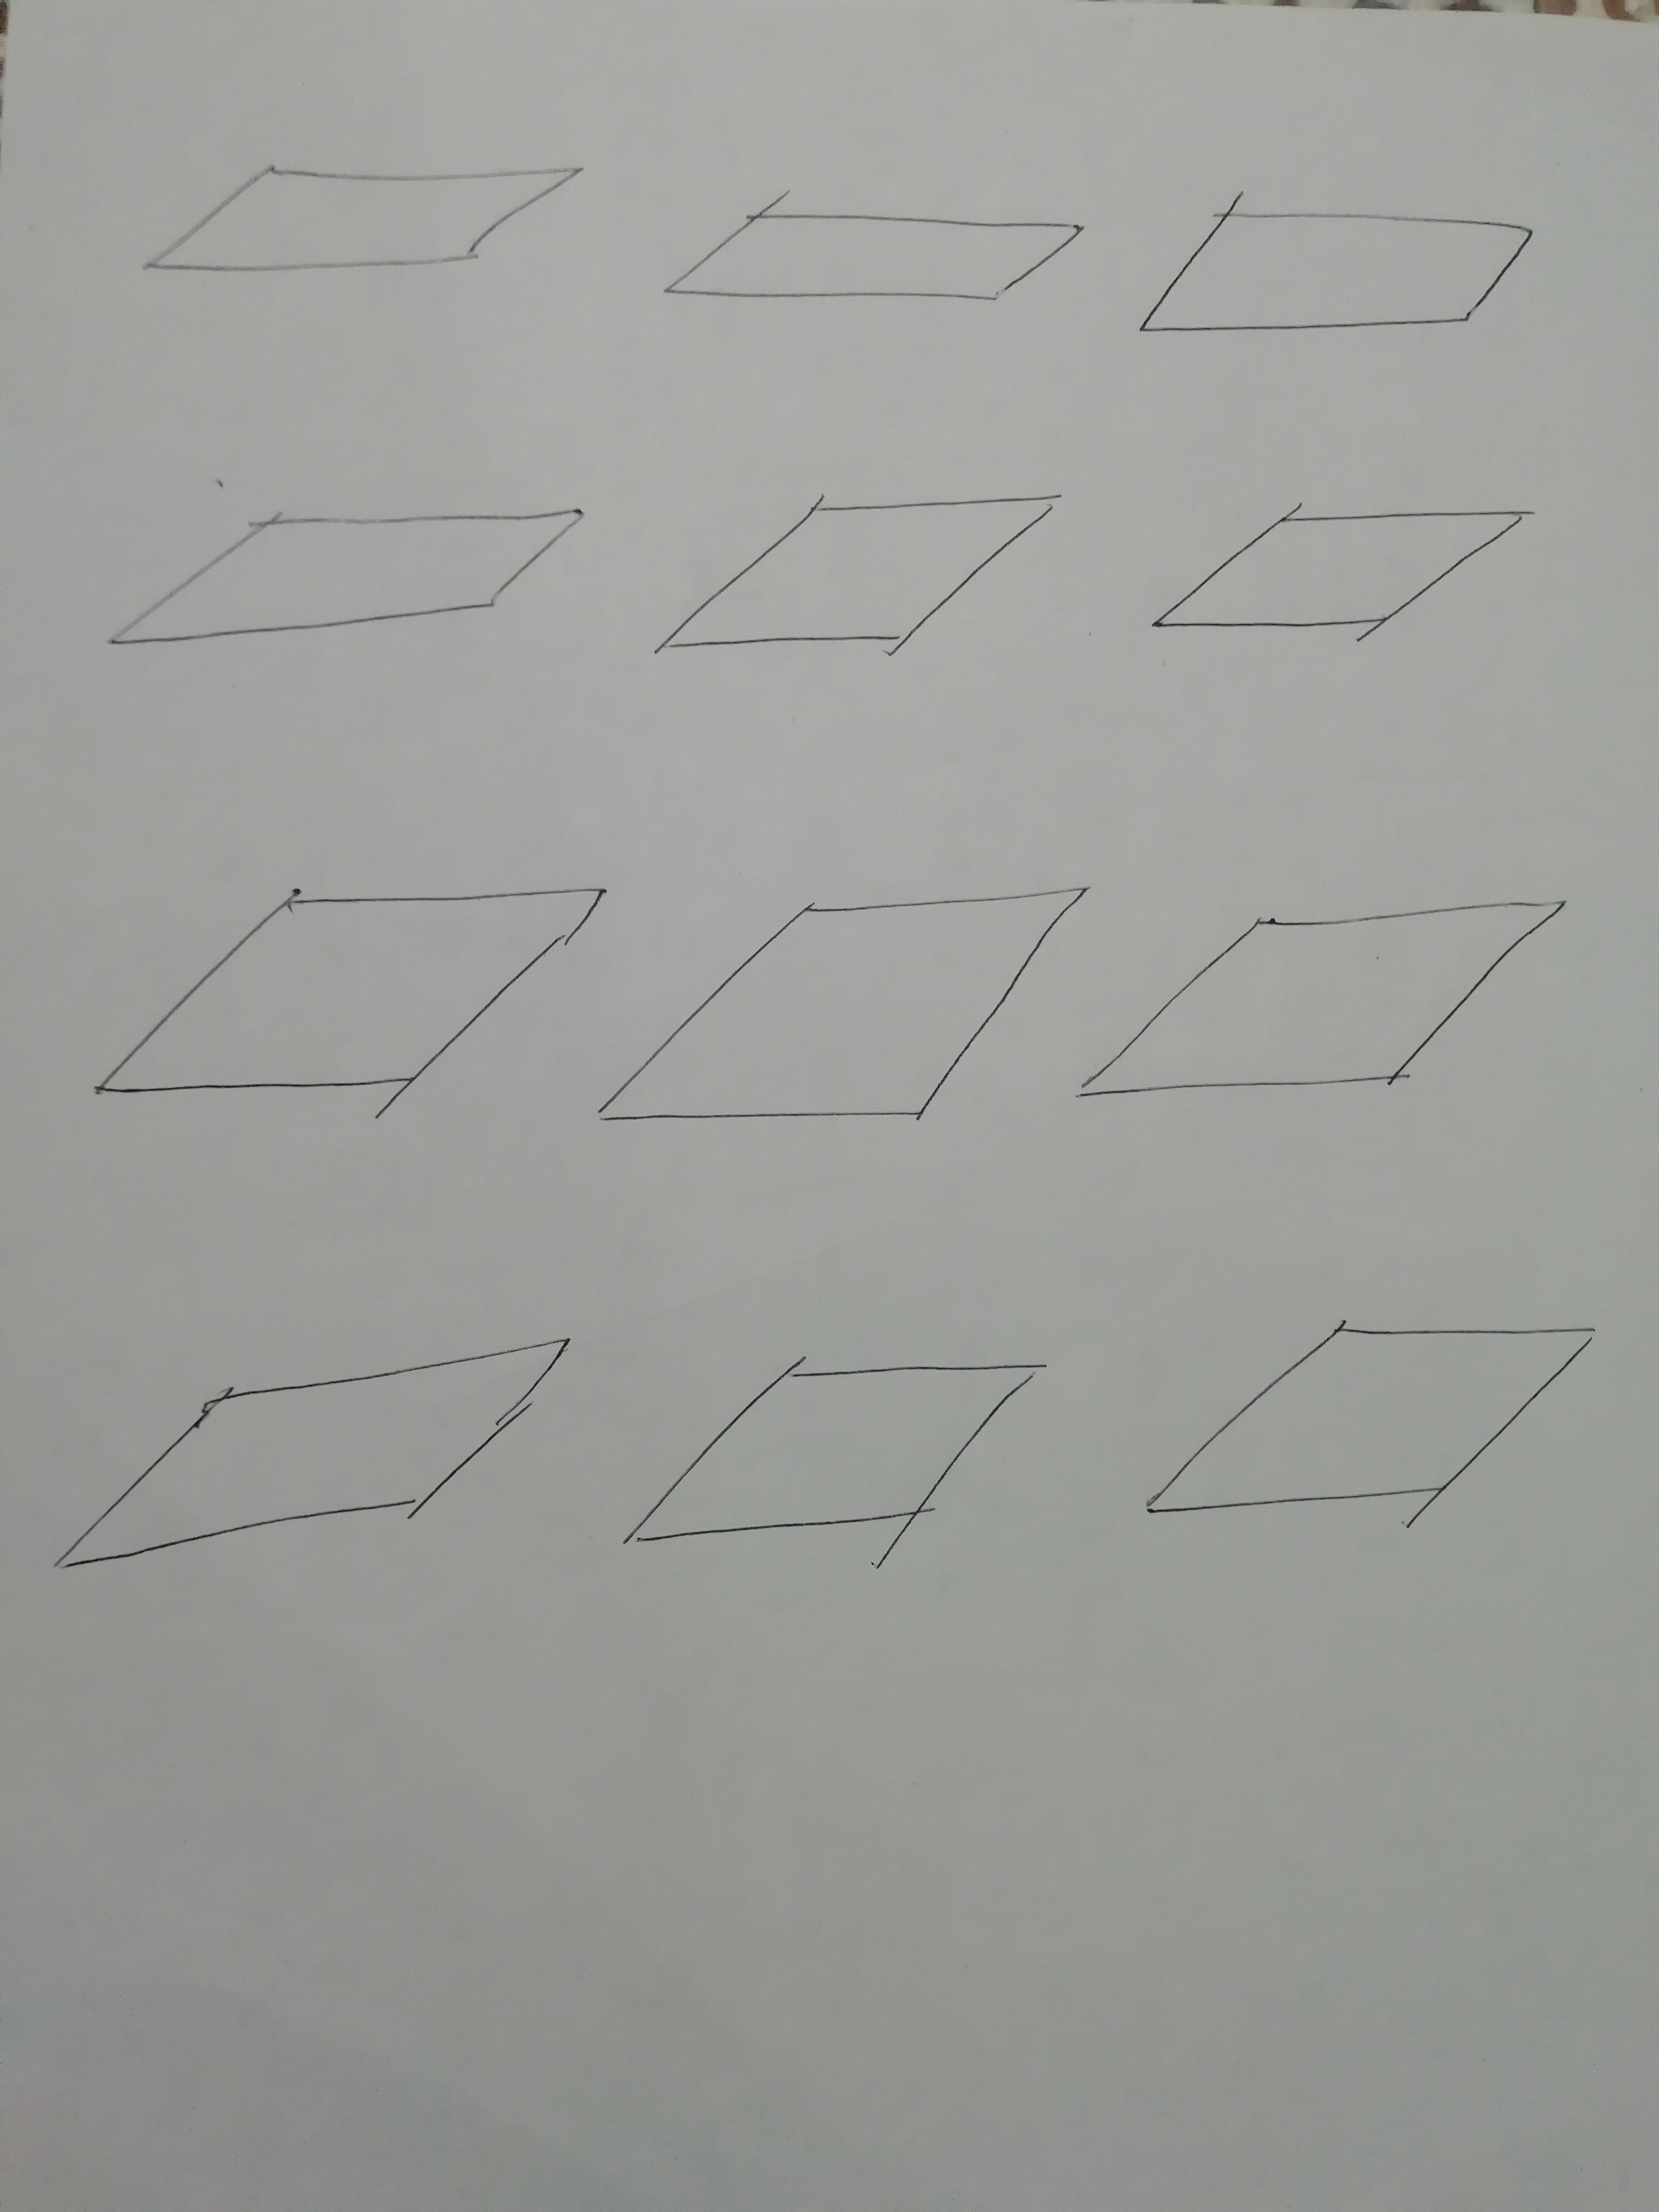scan: (26, 1305, 598, 1599), (1121, 1266, 1659, 1576), (80, 846, 598, 1155), (1086, 873, 1600, 1123), (132, 99, 598, 373), (77, 465, 608, 698), (605, 1336, 1068, 1599), (640, 449, 1079, 705), (1129, 460, 1575, 702), (1133, 155, 1575, 394), (647, 155, 1096, 357)
